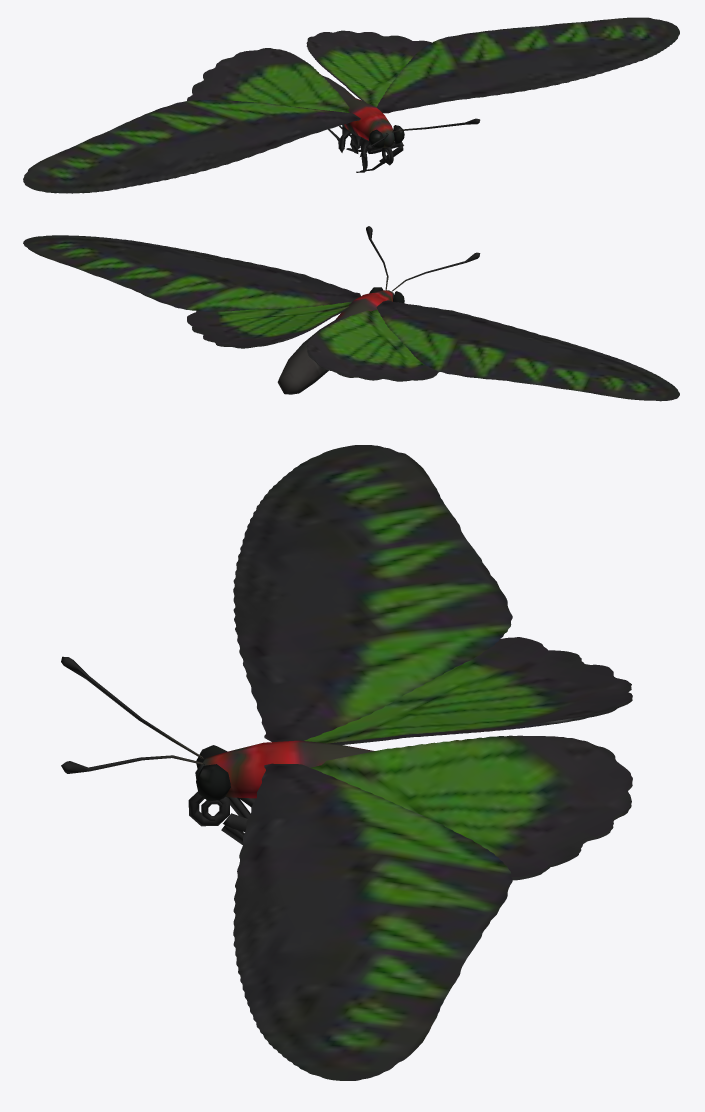
Rendered from rajah-brookes-birdwing.glb.
The picture shows the model from 3 angles, top to bottom: view 1: azimuth 30°, elevation 25°; view 2: azimuth 150°, elevation 25°; view 3: azimuth 270°, elevation 25°; orthographic projection. The views are drawn at different scales.
Size of the model in its own units: 8.24 by 1.02 by 3.07.
1 material, 1 textured.
